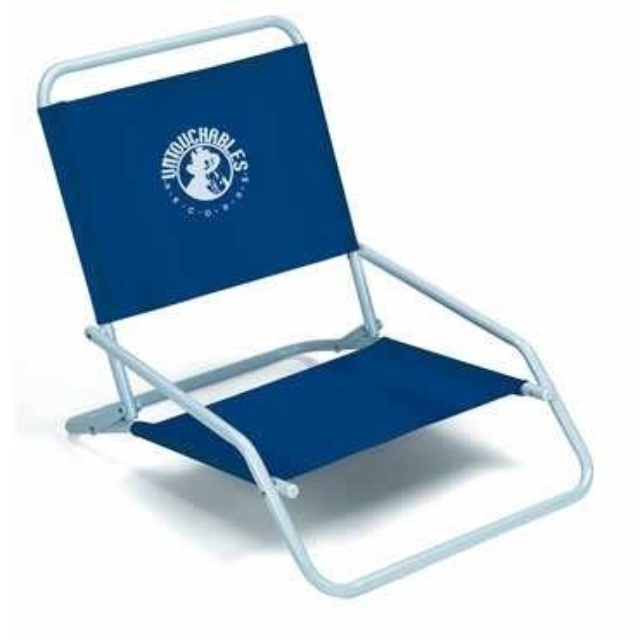obstacle: (36, 16, 592, 597)
